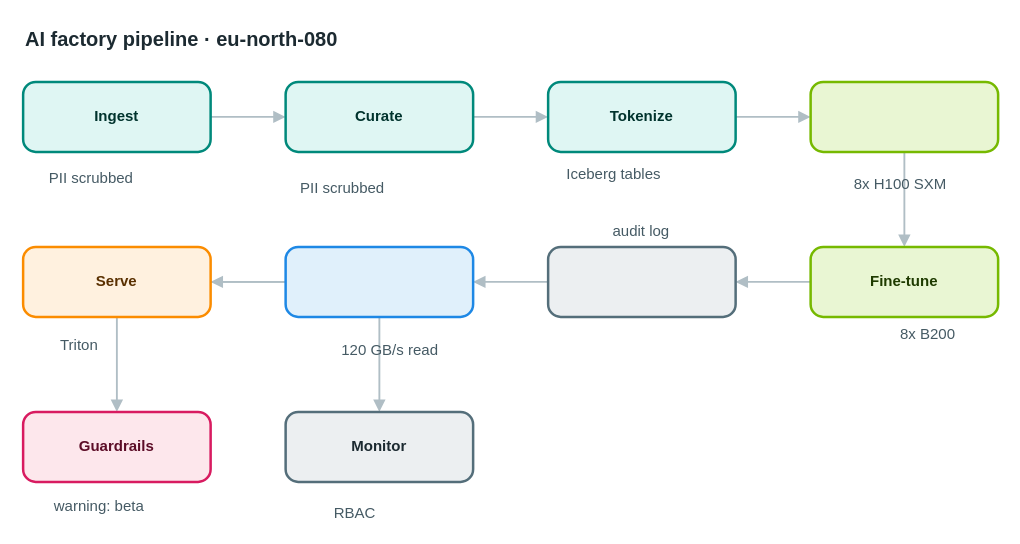
Image size: 1020x544. Some labels were removed from this diagram. Here are the shapes that lost their labels. From the top down, the centre of each, then its label:
At pixel 904 116: "Pretrain".
At pixel 379 281: "Model registry".
At pixel 641 281: "Evaluate".
